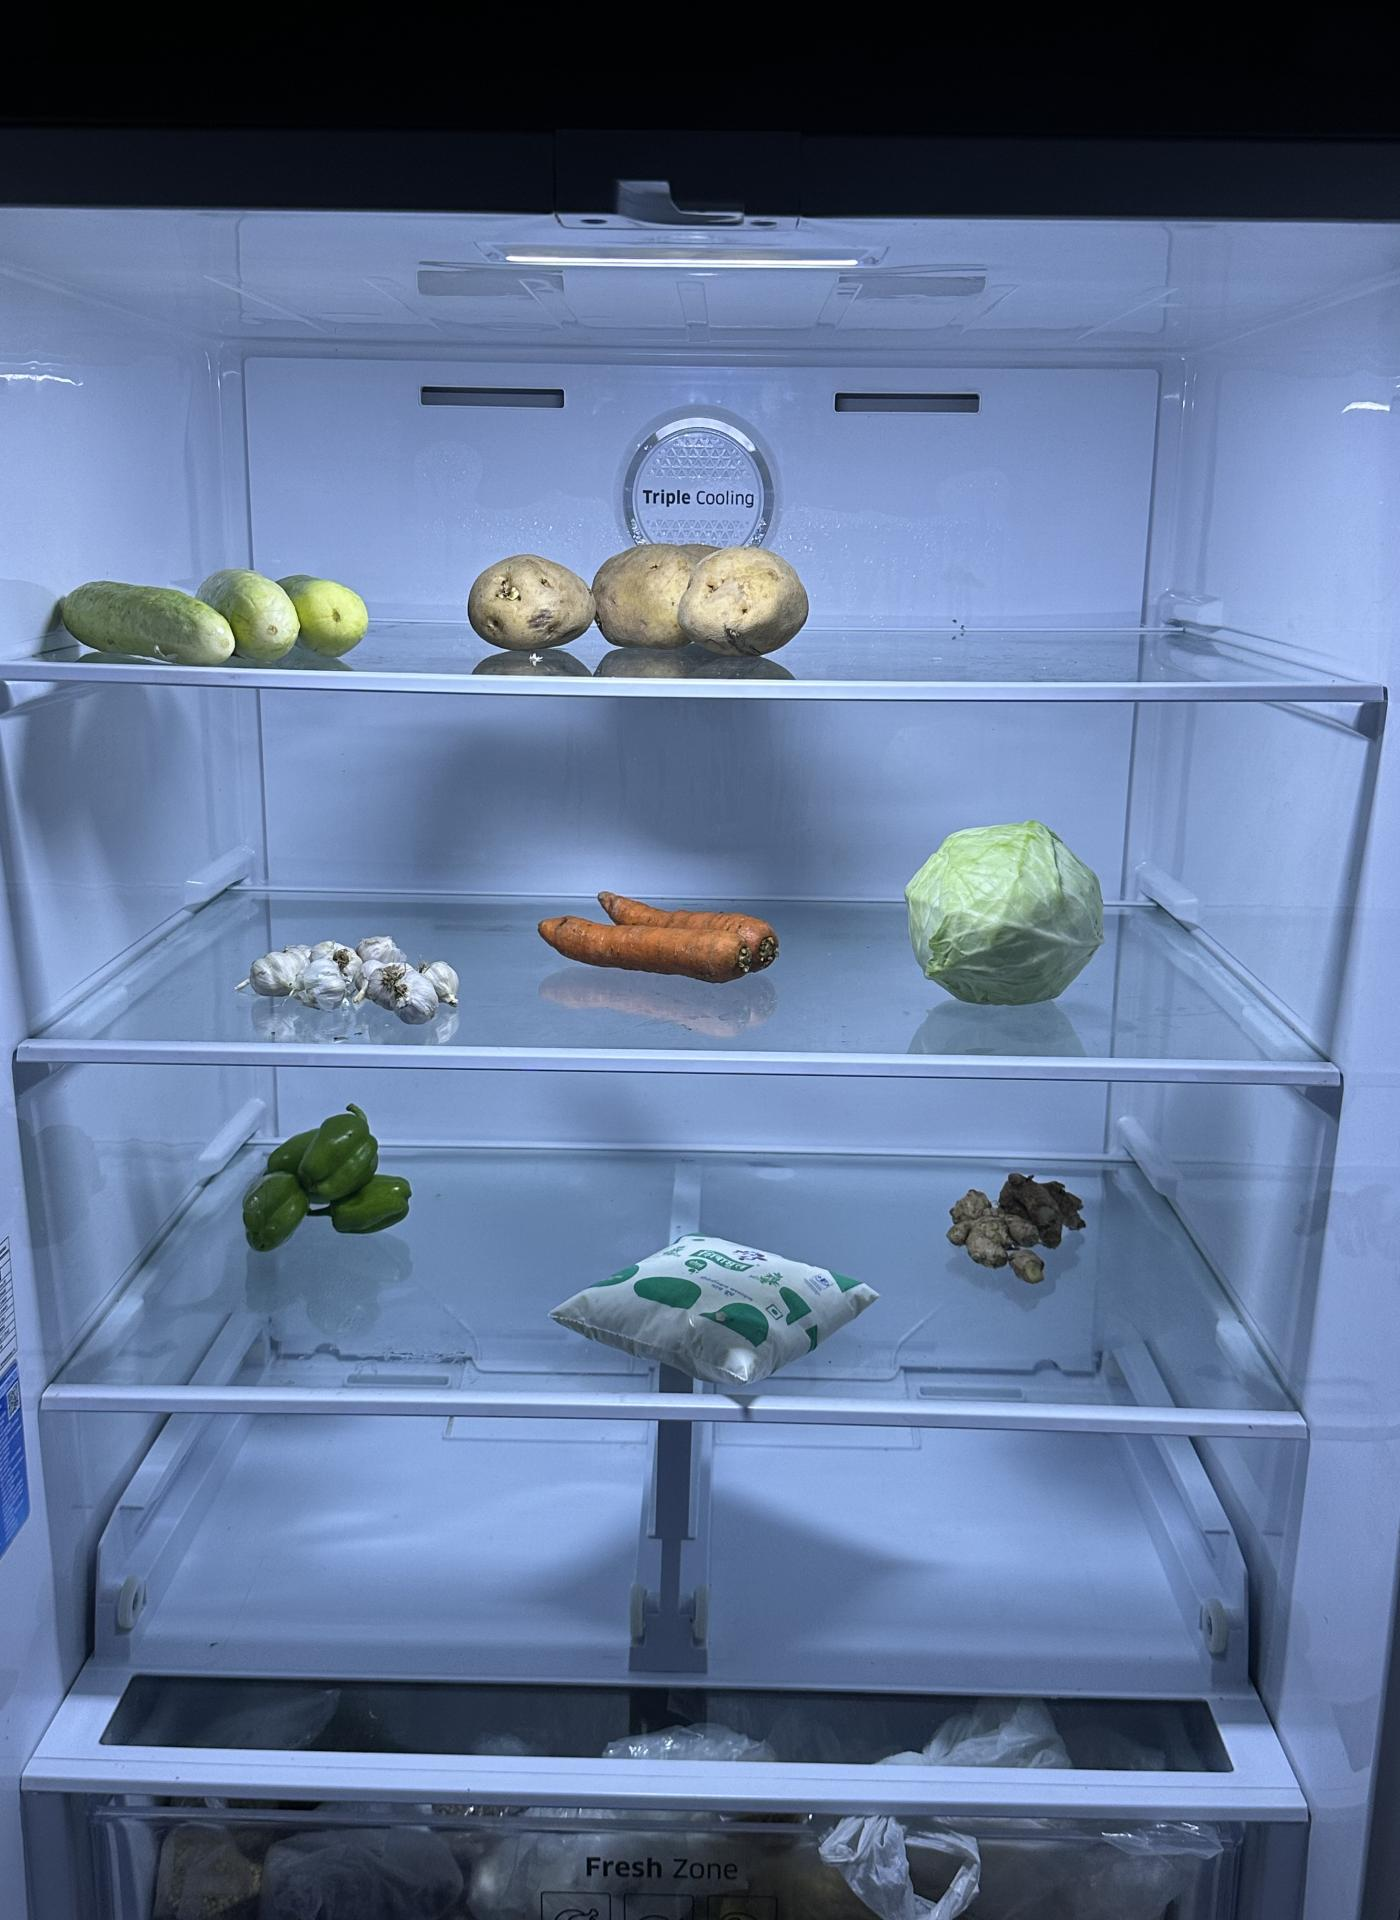cabbage: (902, 806, 1111, 1008)
capsicum: (240, 1103, 419, 1261)
carrots: (534, 881, 789, 987)
cucumber: (42, 552, 377, 668)
garlic: (242, 932, 462, 1036)
ginger: (941, 1160, 1093, 1286)
milk: (550, 1221, 872, 1382)
potato: (467, 534, 810, 665)
